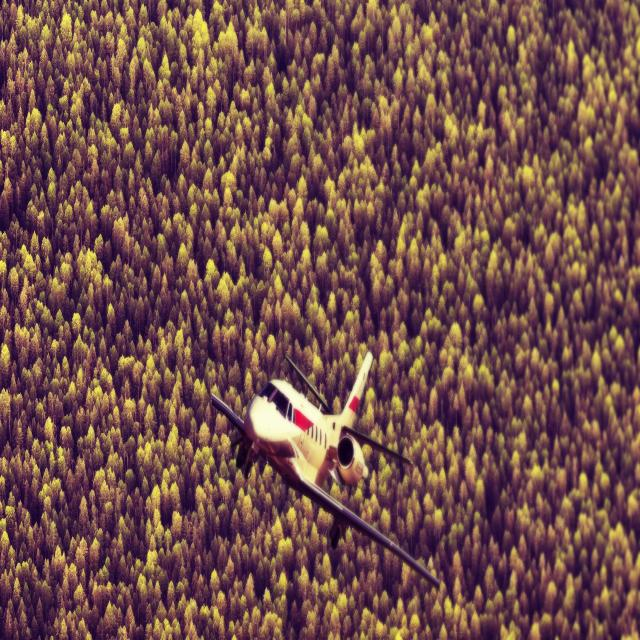airplane: (209, 350, 441, 588)
